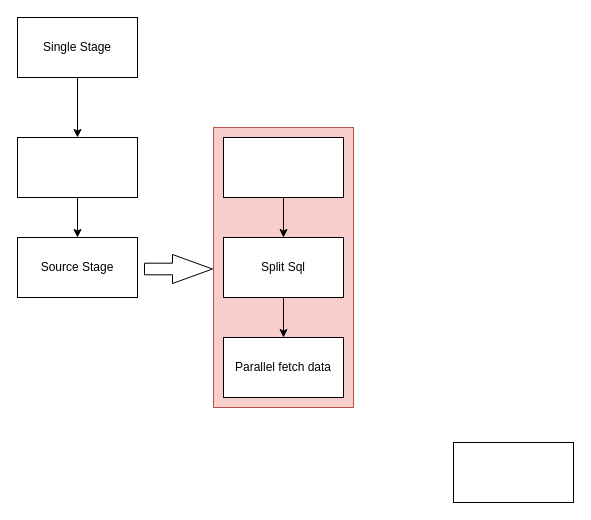
The diagram is 591 pixels wide and 520 high, and some of its shapes have lost their labels. Each missing label, with the centre of its shape:
"Fixed Stage" belongs at [77,167].
"Get Clickhouse meta Info" belongs at [283,167].
